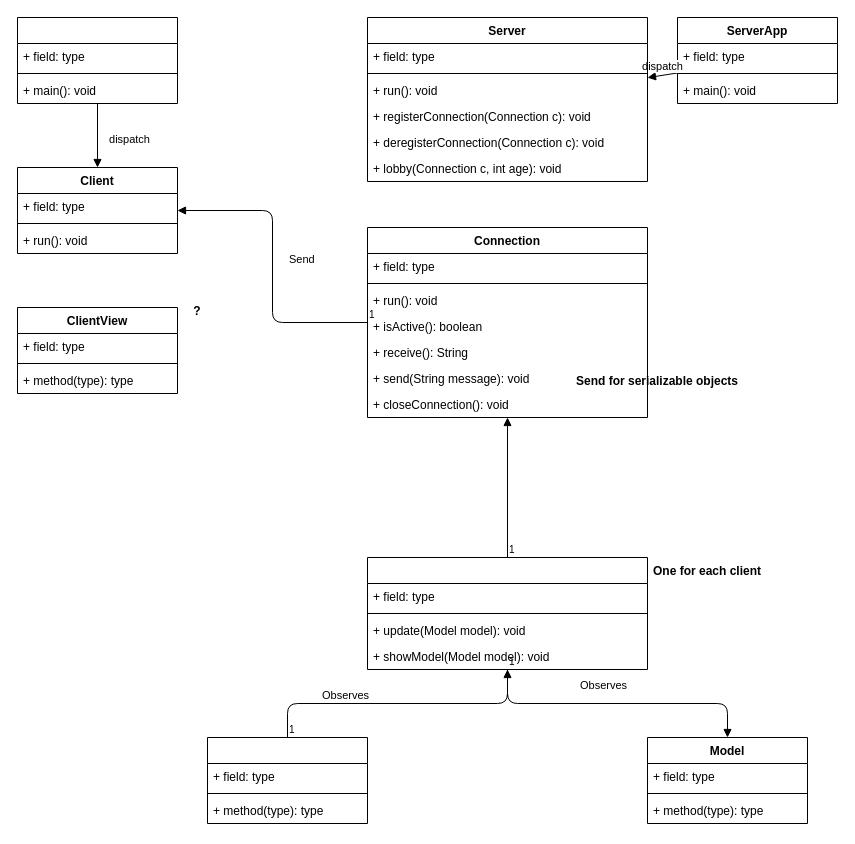
Some shapes in this 855 by 844 pixel diagram are drawn without their labels. The box of each missing label's shape, as (x1, y1, x2, y2) in pixels:
ClientApp: (16, 16, 178, 104)
Controller: (206, 736, 368, 824)
RemoteView: (366, 556, 648, 670)
